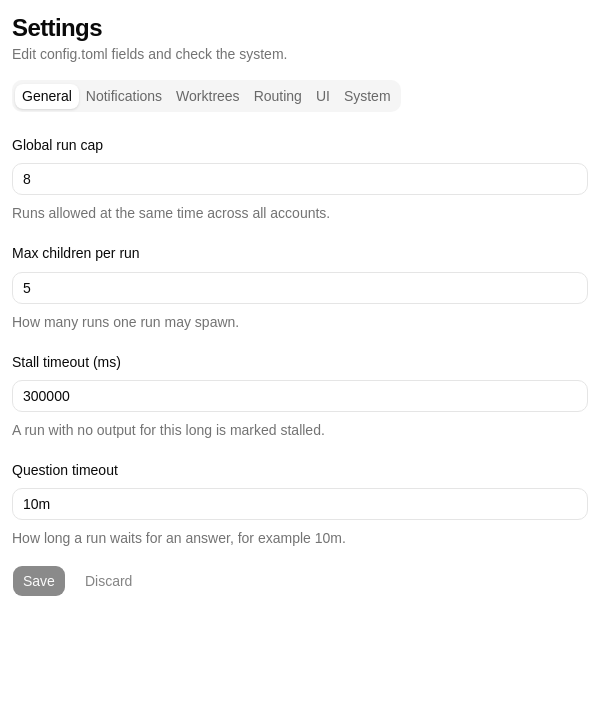
SettingsPage config › never renders a secret value, only the key source
Expected: the number field labelled "Global run cap" is shown, 12,163 -> 588,195
Step 1. Click the tab "General" → (47,96), box 15,84 -> 79,108
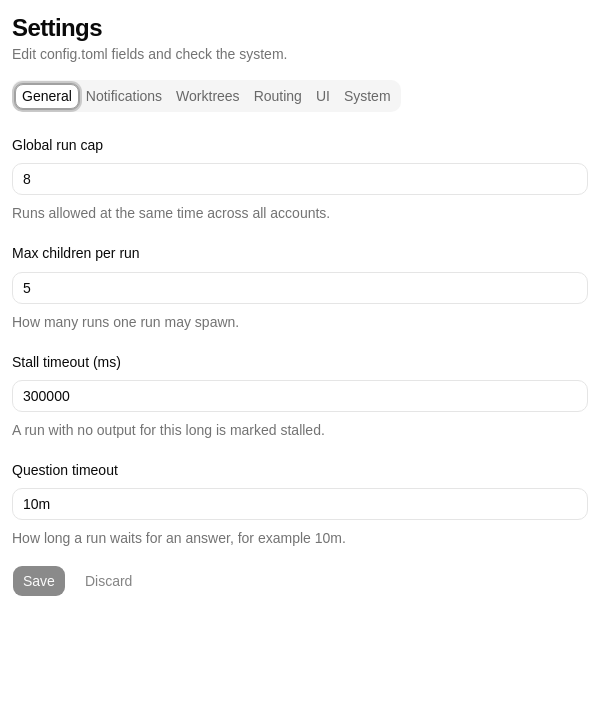
Step 2. Click the tab "Notifications" → (124,96), box 79,84 -> 169,108
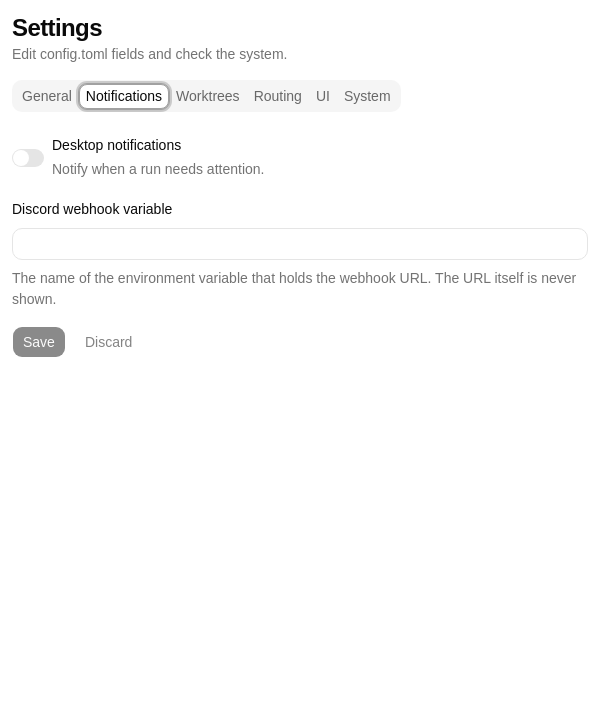
Step 3. Click the tab "Worktrees" → (208,96), box 169,84 -> 247,108
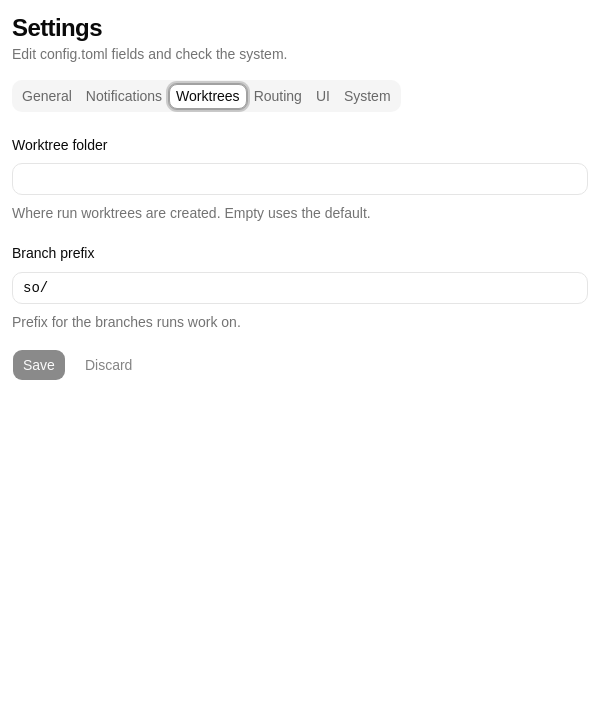
Step 4. Click the tab "Routing" → (278,96), box 247,84 -> 309,108
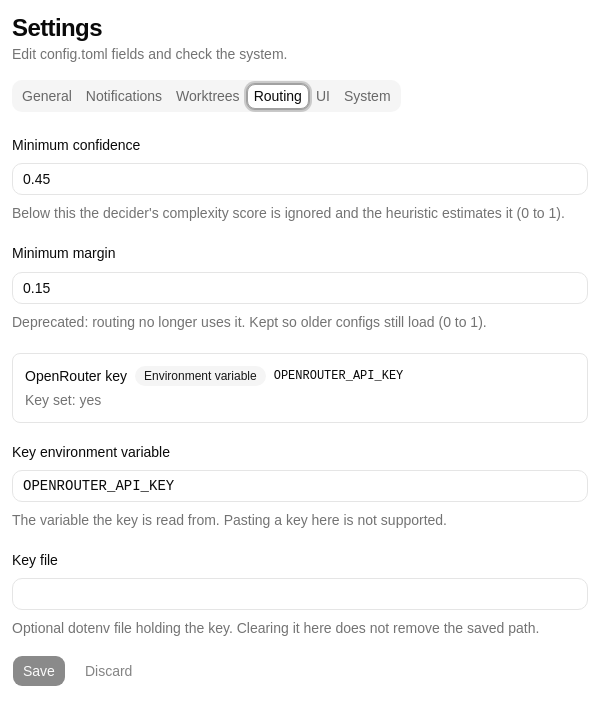
Result: the element with test id "key-source-OpenRouter key" shows "Environment variable" at 144,368 -> 257,382
Result: the element with test id "key-source-OpenRouter key" shows "OPENROUTER_API_KEY" at 274,368 -> 403,382
Result: the element with test id "key-source-OpenRouter key" shows "Key set: yes" at 12,352 -> 588,422
Step 5. Click the tab "UI" → (323,96), box 309,84 -> 337,108
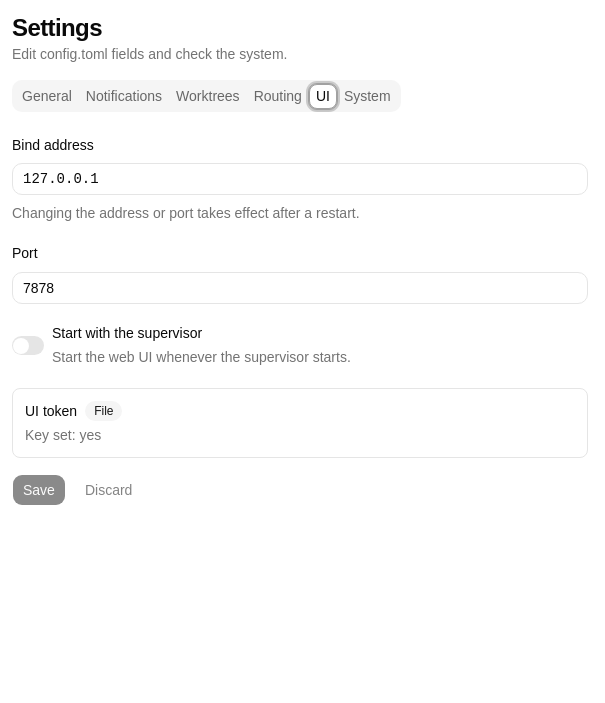
Result: the element with test id "key-source-UI token" shows "File" at 94,404 -> 113,418
